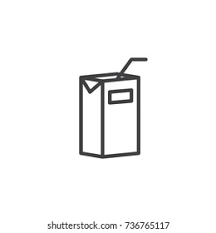Juice_Box: (76, 56, 149, 159)
